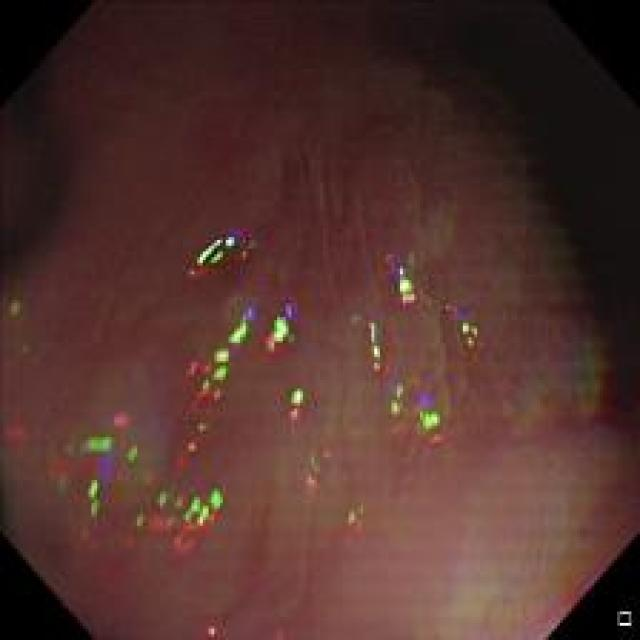color misalignment: (182, 290, 260, 466), (536, 481, 634, 620), (51, 410, 134, 538), (498, 336, 604, 428), (131, 479, 226, 554), (184, 222, 262, 282), (388, 380, 450, 452), (441, 289, 486, 356), (354, 299, 394, 369), (382, 249, 420, 316), (261, 295, 302, 356), (299, 446, 335, 500), (285, 386, 314, 429), (341, 491, 365, 542), (68, 530, 96, 566), (90, 558, 116, 594), (245, 482, 269, 514), (196, 618, 228, 638), (9, 419, 30, 446), (6, 295, 22, 324), (266, 621, 289, 638), (235, 619, 250, 634)
contrast: (402, 9, 632, 400), (1, 59, 82, 294)
